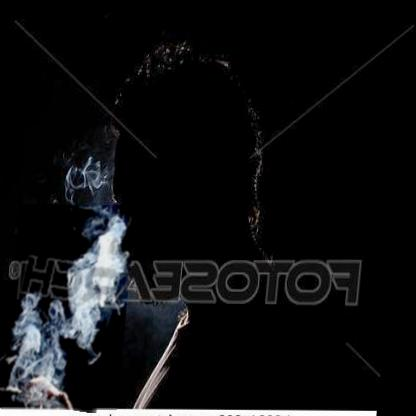smoke: (9, 204, 141, 410)
